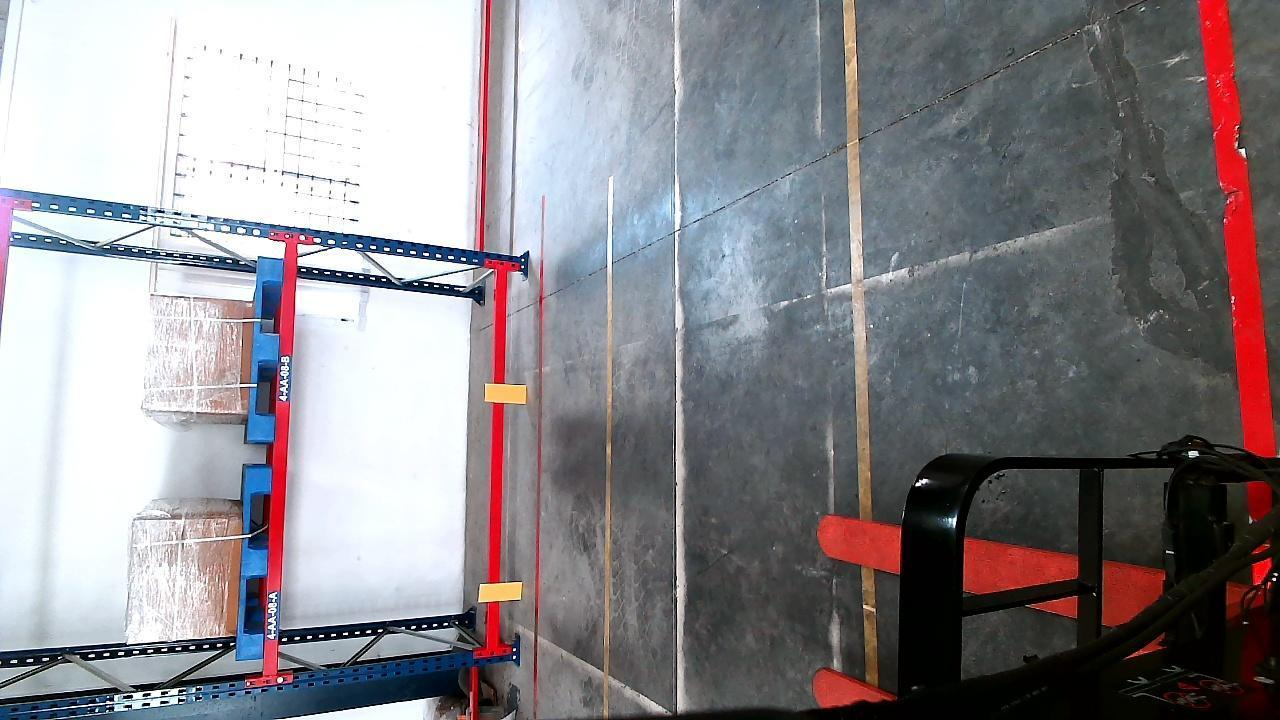h_rack: (264, 239, 298, 678), (487, 271, 508, 650)
orange_strip: (482, 580, 525, 603), (488, 382, 529, 403)
red_line: (1195, 0, 1279, 458), (531, 196, 550, 714)
small_pallet: (249, 259, 284, 452), (237, 485, 274, 652)
yellow_line: (836, 0, 881, 688), (597, 212, 622, 720)
